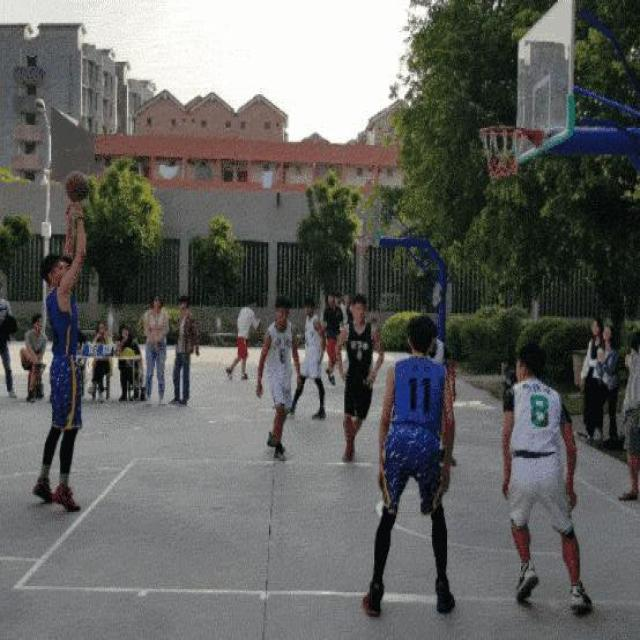basketball: (67, 171, 90, 205)
hoop: (478, 124, 524, 178)
